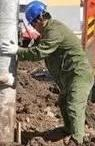gloves: (0, 39, 19, 55), (0, 71, 14, 86)
hard-hat: (23, 1, 47, 23)
ppe-suit: (0, 37, 48, 146)
